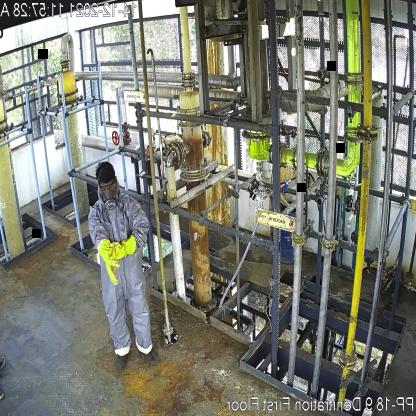goggles: (99, 180, 116, 190)
mask: (102, 188, 118, 210)
